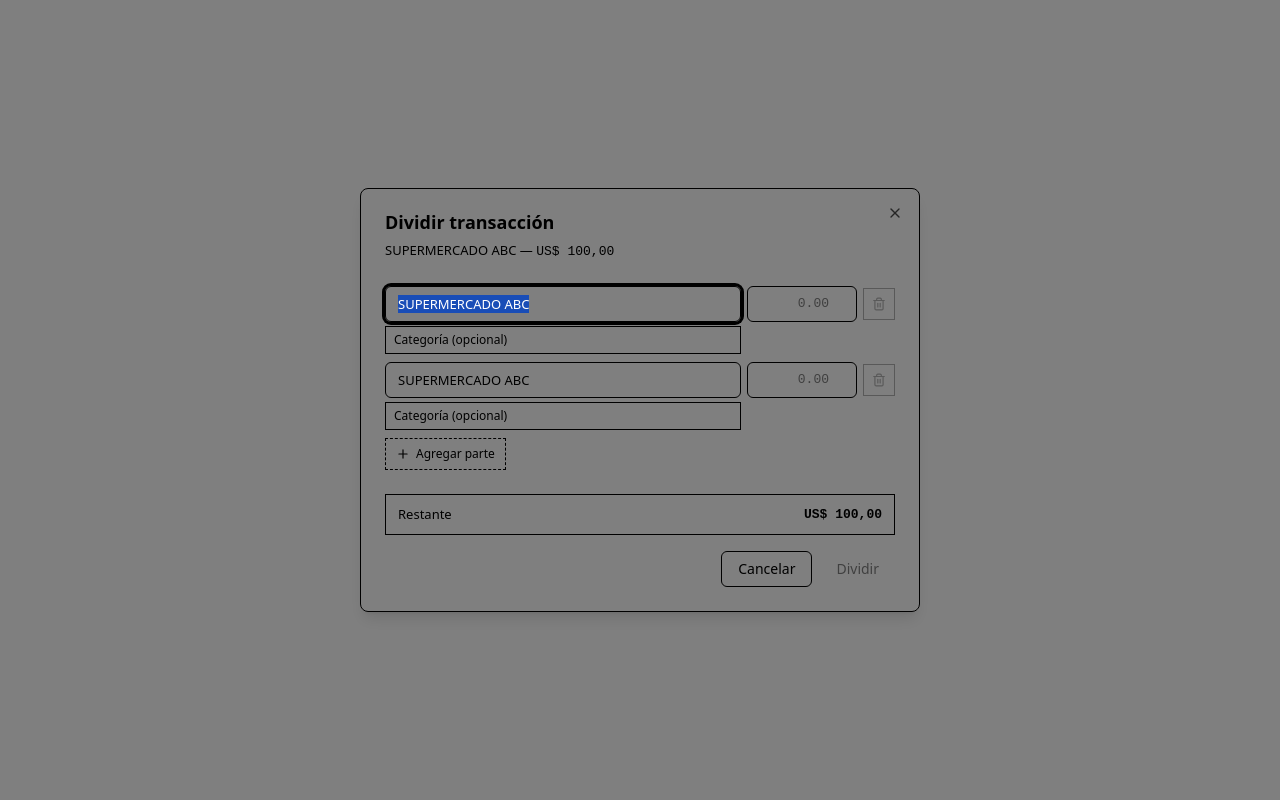
SplitTransactionDialog › closes only the category picker on Escape, keeping the typed parts
Type "10.5" into the number field named "Monto parte 1".
click(802, 304); type("10.5")  # box x1=747 y1=286 x2=857 y2=322
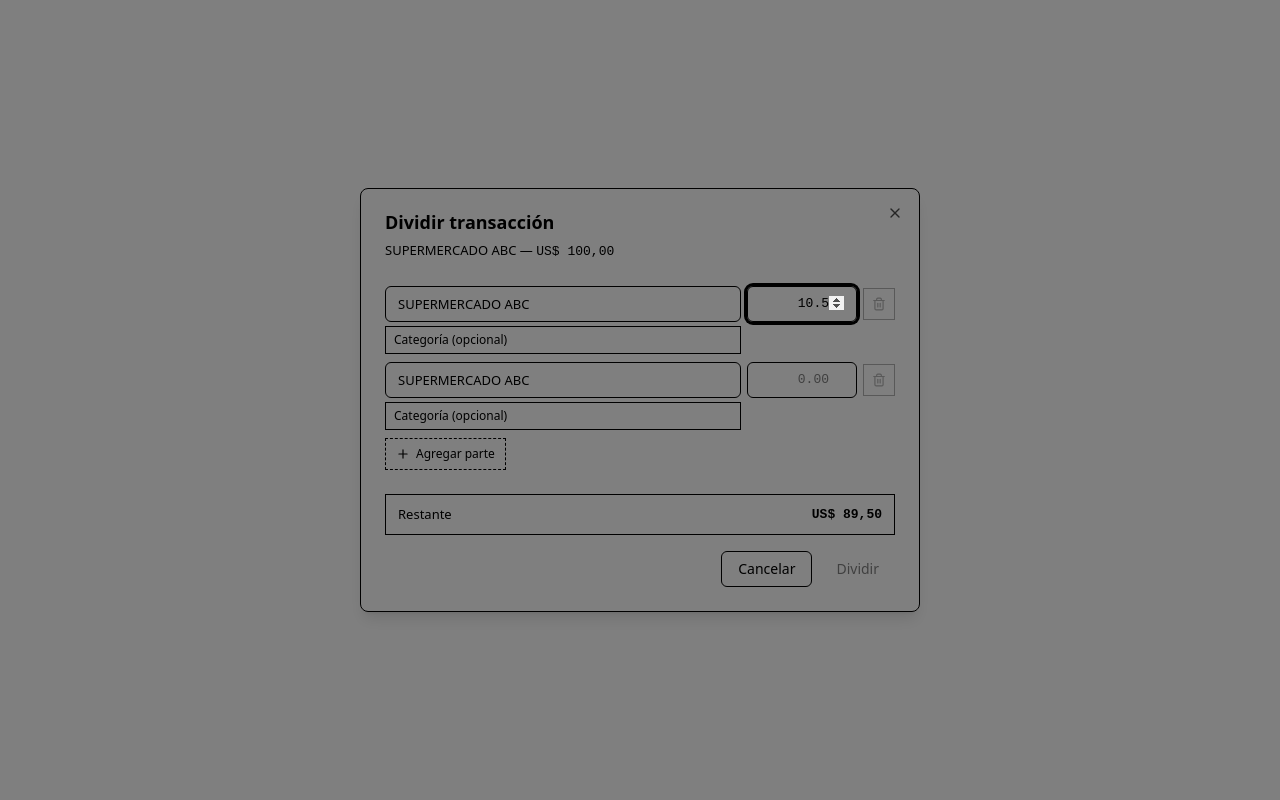
Click the 1st button "Categoría (opcional)".
click(451, 339)  # box x1=385 y1=326 x2=741 y2=354
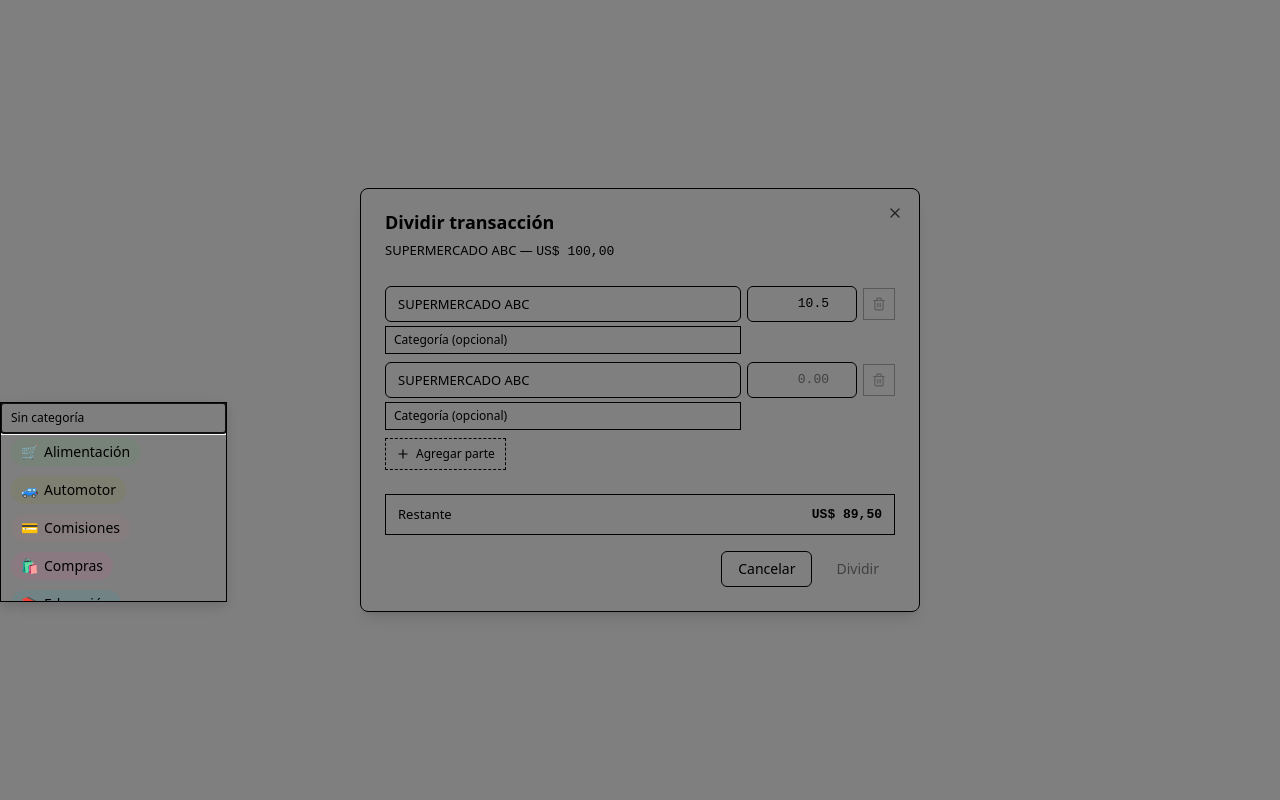
Now the button "Sin categoría" is shown, box x1=1 y1=403 x2=226 y2=433
Press Escape
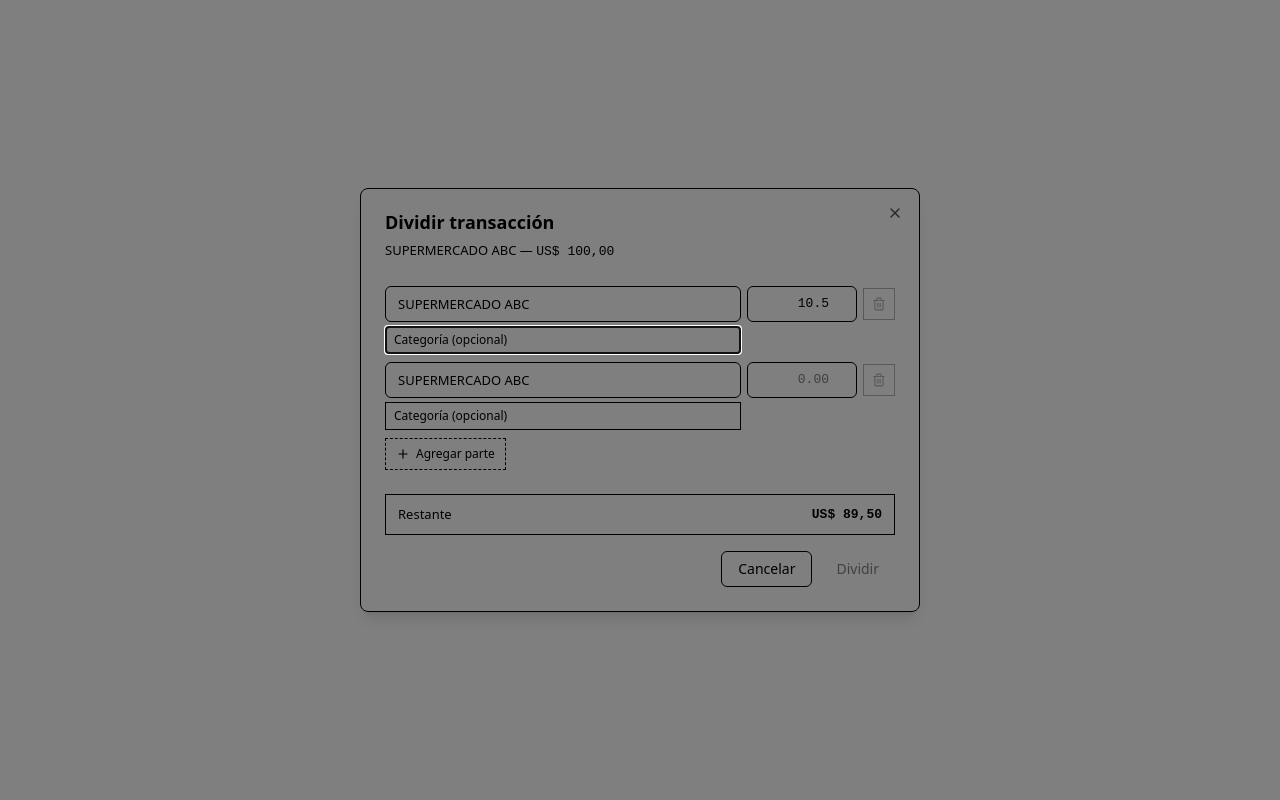
Expected: the dialog is shown, x1=360 y1=188 x2=920 y2=612
Now no buttons "Sin categoría" are shown
